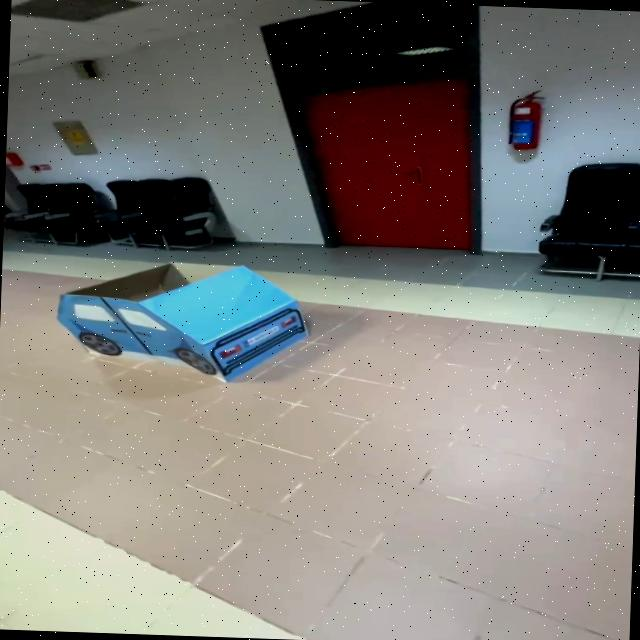blue_car: (38, 245, 323, 398)
